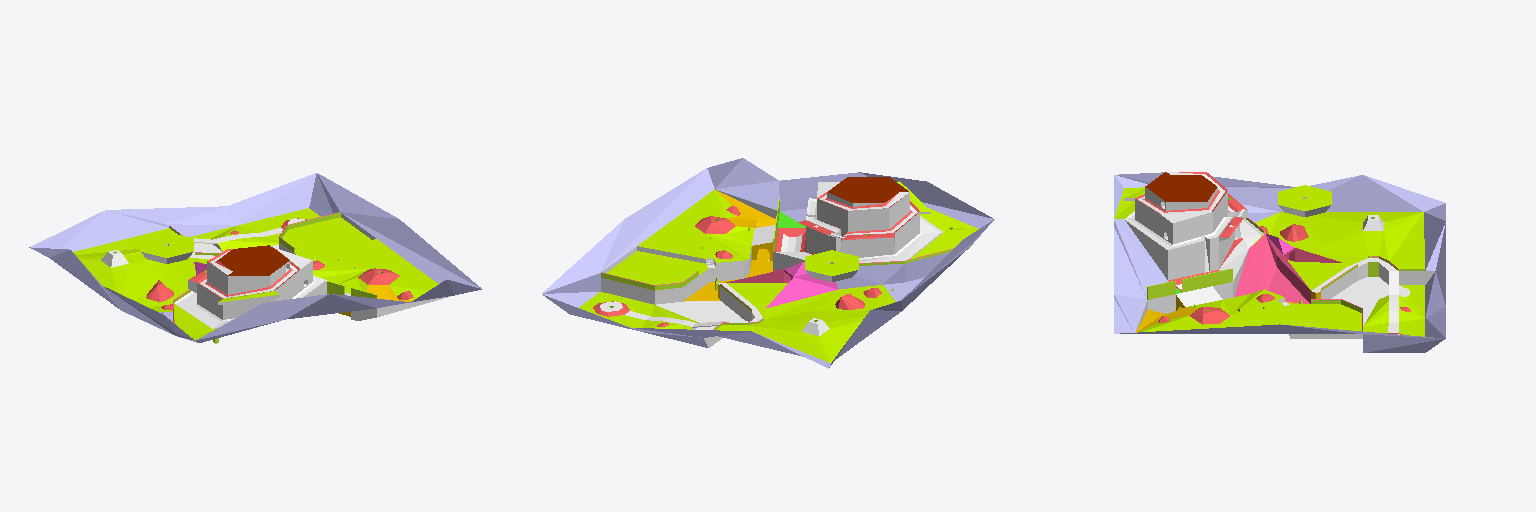
The model's file is Bob-Omb Battlefield Area 1.obj.
3 views of the same model, side by side, from view 1: azimuth 30°, elevation 25°; view 2: azimuth 150°, elevation 25°; view 3: azimuth 270°, elevation 25° (orthographic).
Bounding box in the file's own units: 32766 × 9354 × 32766.